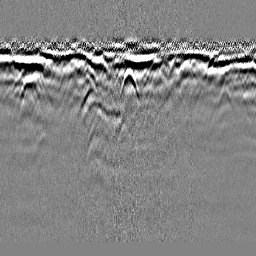cavity: (119, 65, 140, 98)
